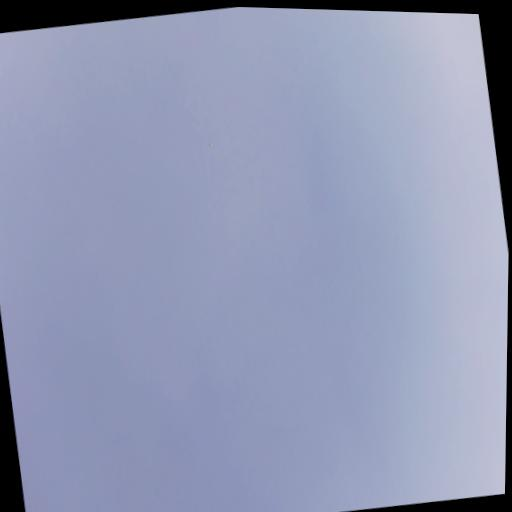drones: (206, 141, 214, 148)
